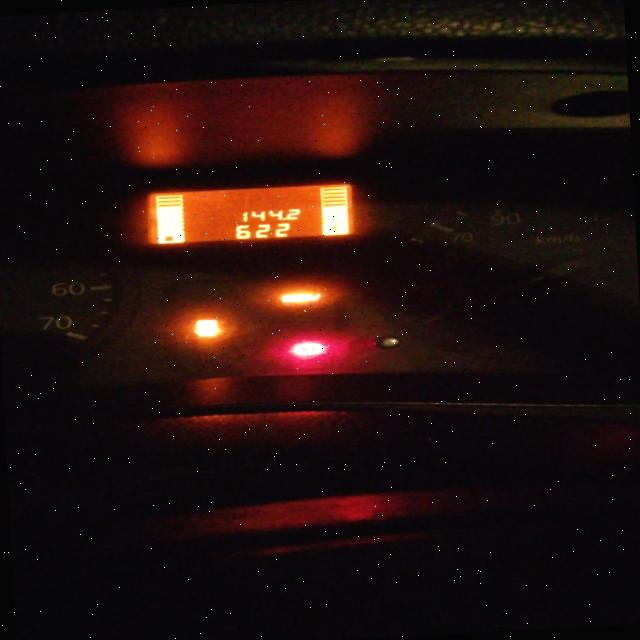odometer: (141, 181, 357, 247)
